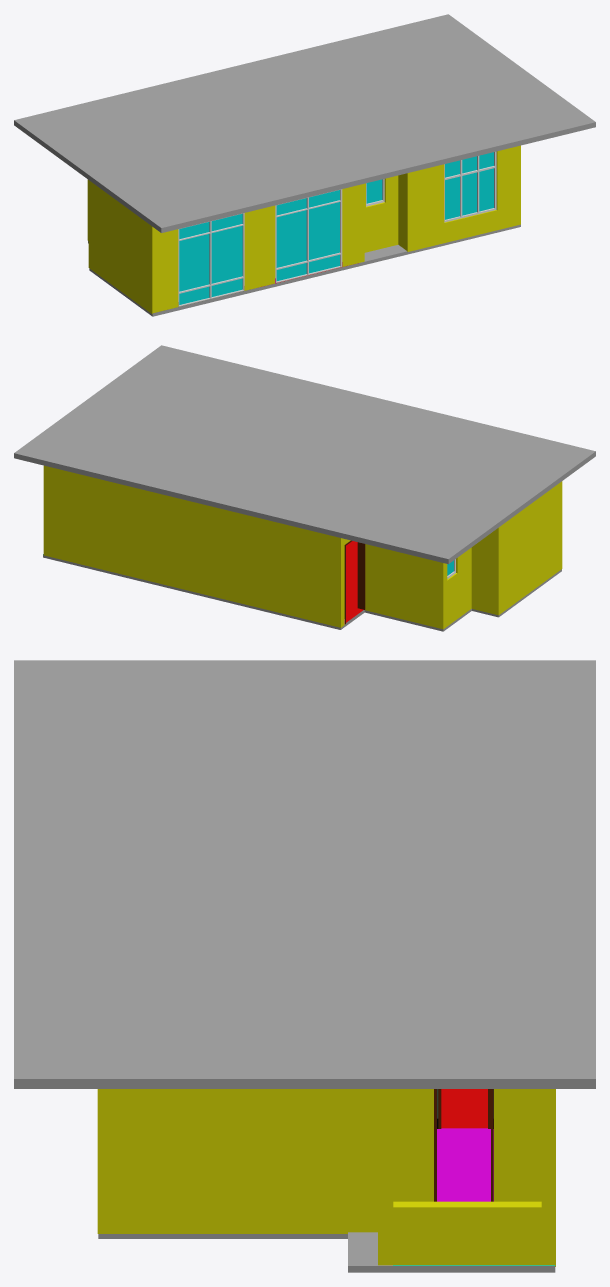
The model's file is Wing_B_Flat_No_03_Type03MtID.fbx.
3 renders of one model, top to bottom at view 1: azimuth 30°, elevation 25°; view 2: azimuth 150°, elevation 25°; view 3: azimuth 270°, elevation 25°, orthographic. The views are drawn at different scales.
Parts seen in each view (by area): view 1: Flat_No_03_celling__DoorFrame_Skerting:Roof1, wall, Door_Glass1, balacony_door:Door_Glass1, Flat_No_03_celling__DoorFrame_Skerting:Glass1, Floor1, balacony_door:Flat_No_03_Type03:Door_frame_03, Door_frame_03, Flat_No_03_celling__DoorFrame_Skerting:Window_Frame; view 2: Flat_No_03_celling__DoorFrame_Skerting:Roof1, wall, Floor1, Flat_No_03_celling__DoorFrame_Skerting:pCube7; view 3: Flat_No_03_celling__DoorFrame_Skerting:Roof1, wall, Floor1.
Boxes of the visible parts, box(x1,y1,x2,y2) form: Flat_No_03_celling__DoorFrame_Skerting:Roof1: box(14, 14, 595, 232); wall: box(87, 145, 520, 314); Door_Glass1: box(179, 213, 242, 304); balacony_door:Door_Glass1: box(276, 190, 339, 281); Flat_No_03_celling__DoorFrame_Skerting:Glass1: box(445, 152, 493, 219); Floor1: box(88, 224, 520, 316); balacony_door:Flat_No_03_Type03:Door_frame_03: box(275, 189, 342, 282); Door_frame_03: box(178, 213, 244, 306); Flat_No_03_celling__DoorFrame_Skerting:Window_Frame: box(444, 151, 496, 222); Flat_No_03_celling__DoorFrame_Skerting:Roof1: box(14, 345, 595, 564); wall: box(43, 465, 562, 629); Floor1: box(43, 541, 561, 631); Flat_No_03_celling__DoorFrame_Skerting:pCube7: box(344, 540, 365, 624); Flat_No_03_celling__DoorFrame_Skerting:Roof1: box(14, 660, 595, 1088); wall: box(97, 1089, 555, 1266); Floor1: box(98, 1089, 555, 1272).
Size of the model in its own units: 1361 by 321 by 800.
